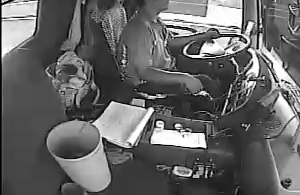paper: (87, 98, 156, 150)
